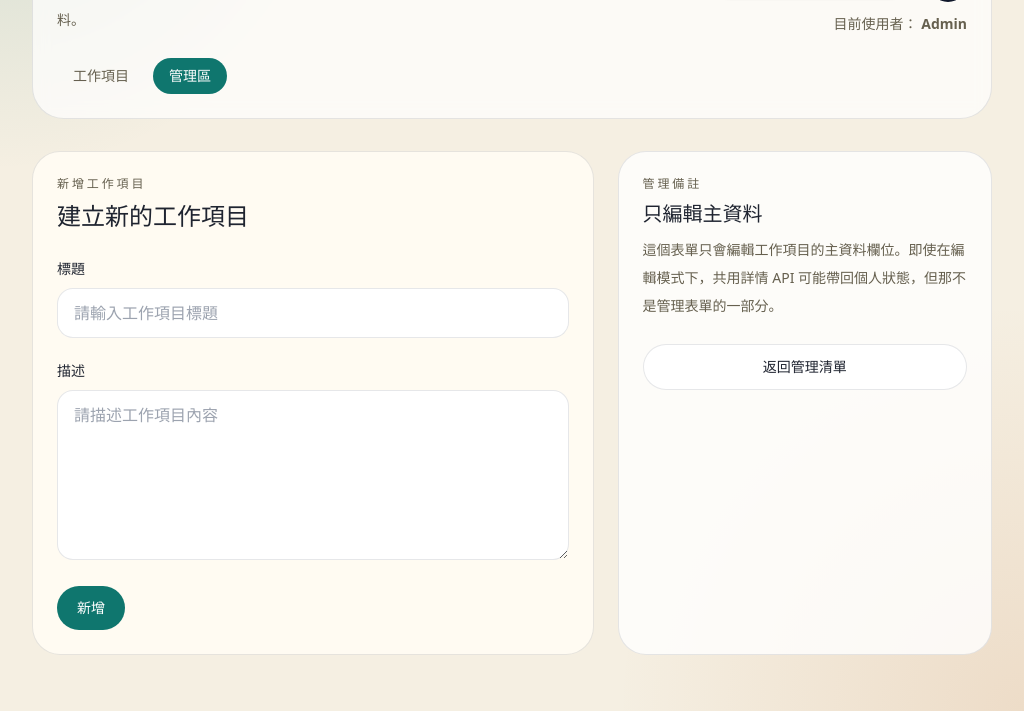
Test: AdminWorkItemFormPage › AdminWorkItemCreatePage_WhenTitleIsEmpty_ShowsValidationErrorWithoutRequest
(page scrolled)
Click the button "新增" at (91, 608), box [57, 586, 125, 630]
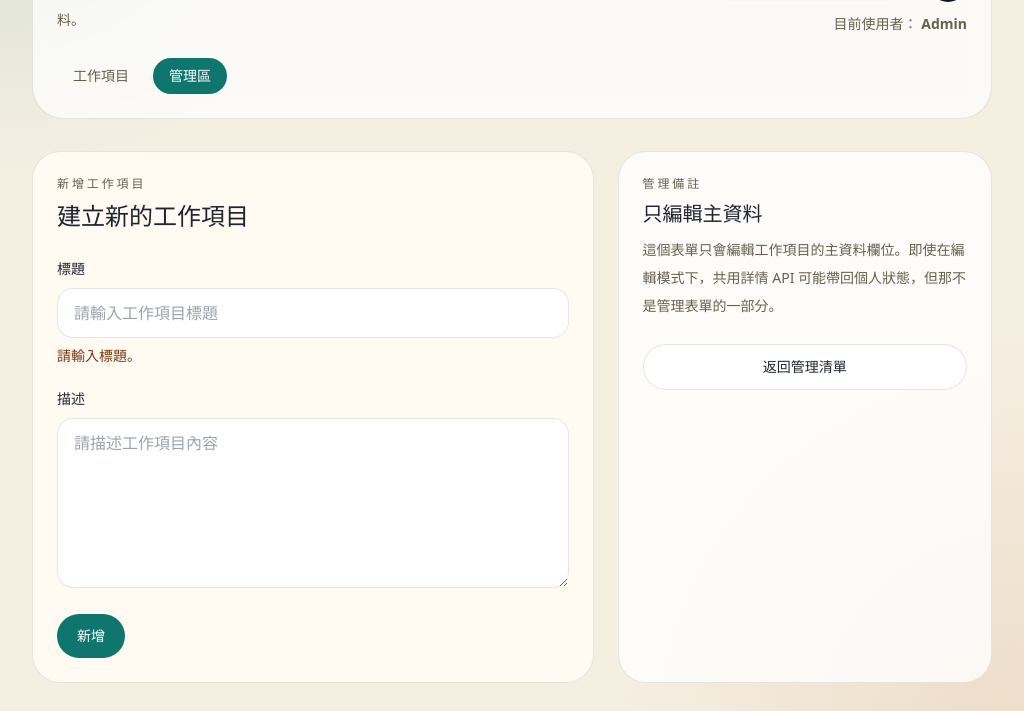
Expected: the text "請輸入標題。" is shown, [57, 346, 141, 365]
